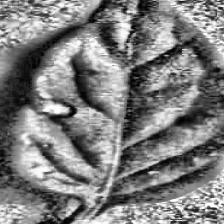disease: (9, 0, 223, 206)
